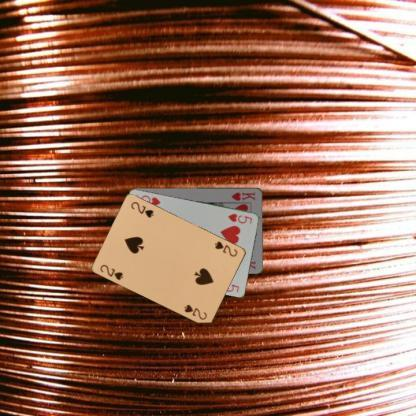2s: (212, 239, 240, 258), (98, 262, 124, 282)
5h: (225, 211, 254, 225)
Kh: (229, 190, 256, 202)
